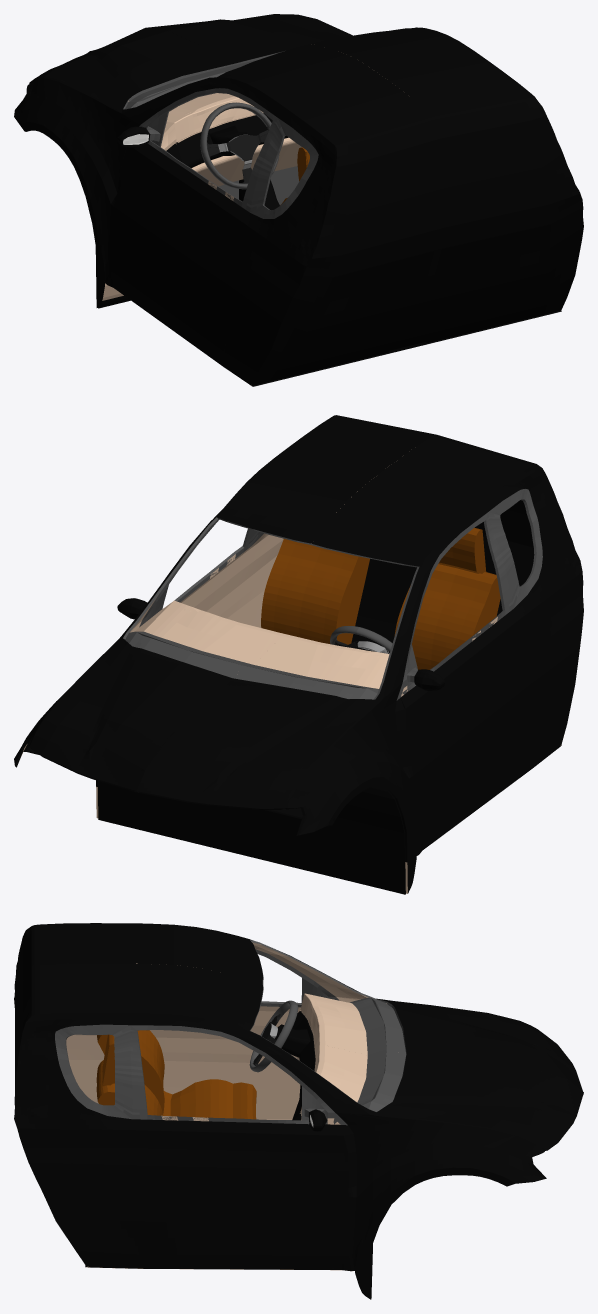
File: Coche.fbx
3 renders of one model, top to bottom at view 1: azimuth 30°, elevation 25°; view 2: azimuth 150°, elevation 25°; view 3: azimuth 270°, elevation 25°, orthographic. The views are drawn at different scales.
Parts seen in each view (by area): view 1: capo, Cylinder; view 2: capo, Cylinder; view 3: capo, Cylinder.
Part boxes in pixels (<box>): capo: <box>14,14,583,386</box>; Cylinder: <box>200,102,279,189</box>; capo: <box>14,415,583,894</box>; Cylinder: <box>330,626,392,653</box>; capo: <box>14,923,583,1299</box>; Cylinder: <box>249,1000,310,1072</box>.
Size of the model in its own units: 781 by 671 by 1296.
